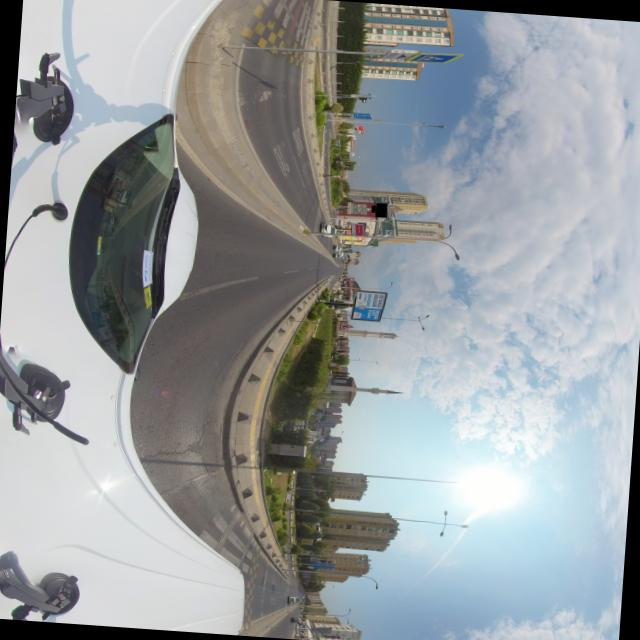SignStore: (375, 203, 385, 217), (370, 205, 374, 212)
